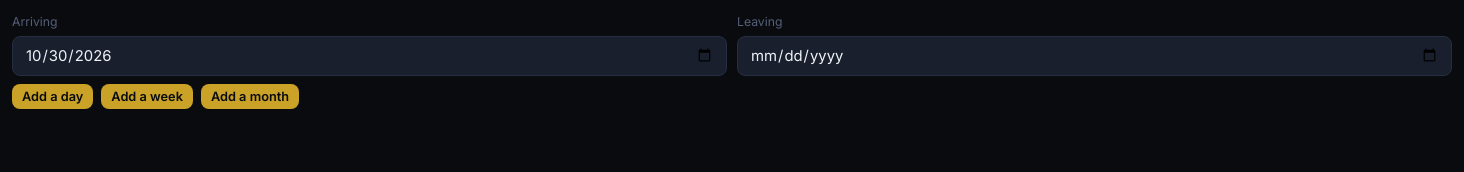
Test: New Reservation — Add a day / Add a week / Add a month › four presses of Add a day → 4 nights, leaving four days after arrival
Click the button "Add a day" at (53, 96), box left=12, top=84, right=93, bottom=109
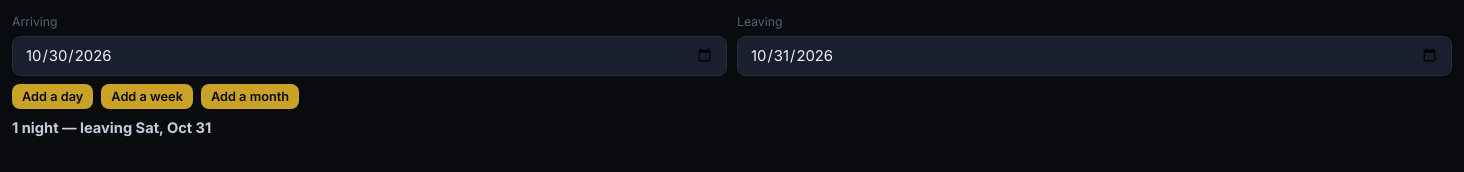
Click the button "Add a day" at (53, 96), box left=12, top=84, right=93, bottom=109
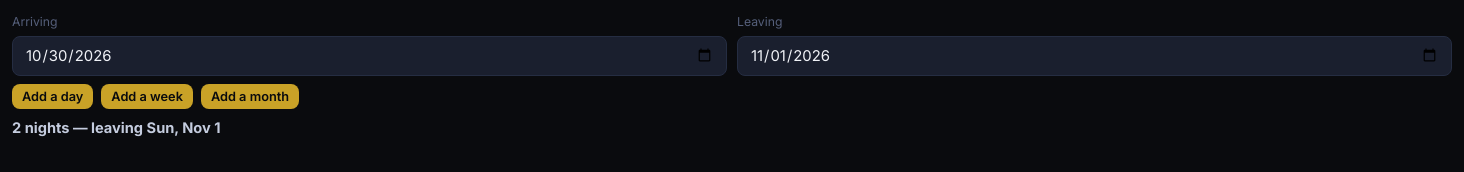
Click the button "Add a day" at (53, 96), box left=12, top=84, right=93, bottom=109
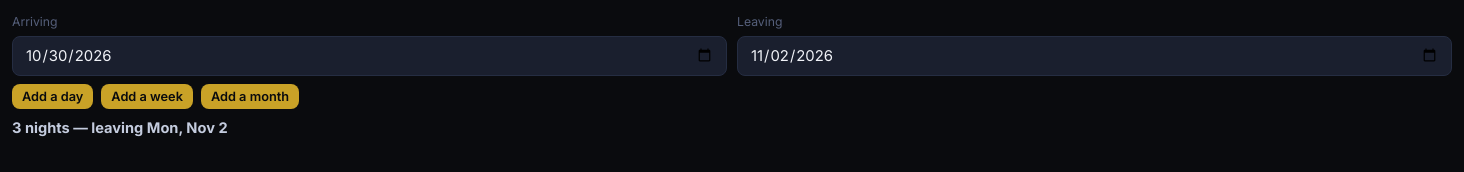
Click the button "Add a day" at (53, 96), box left=12, top=84, right=93, bottom=109
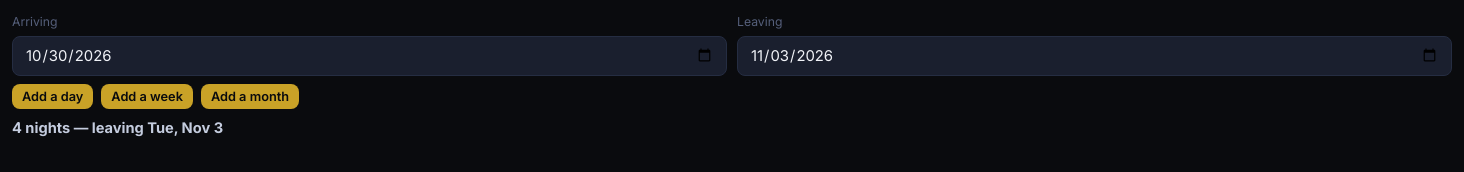
Now the date field named "Leaving" holds "2026-11-03", box left=737, top=36, right=1452, bottom=76
Now the text with test id "resv-nights" reads "4 nights — leaving Tue, Nov 3", box left=12, top=119, right=223, bottom=137
